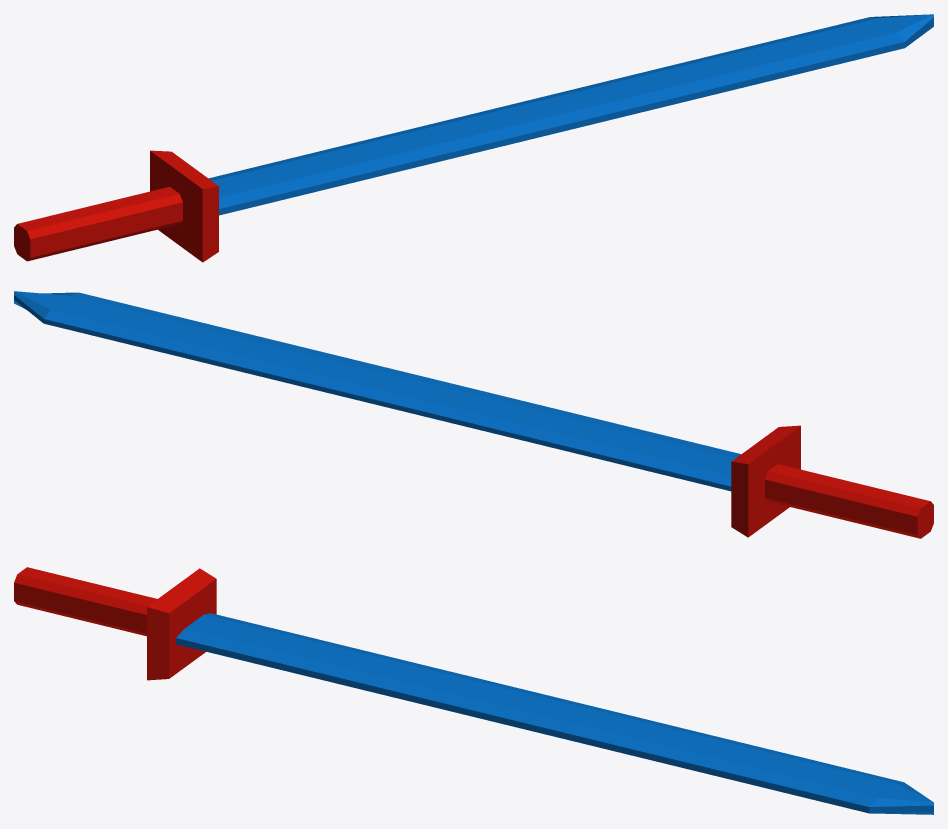
File: sword.obj
3 renders of one model, top to bottom at view 1: azimuth 30°, elevation 25°; view 2: azimuth 150°, elevation 25°; view 3: azimuth 330°, elevation 25°, orthographic.
Parts seen in each view (by area): view 1: Cube; view 2: Cube; view 3: Cube.
Boxes of the visible parts, left/top/right/bottom form: Cube: left=14, top=14, right=933, bottom=262; Cube: left=14, top=291, right=933, bottom=538; Cube: left=14, top=567, right=933, bottom=814.
Size of what is drawn, in the model's own units: 29.07 by 2.24 by 2.92.
